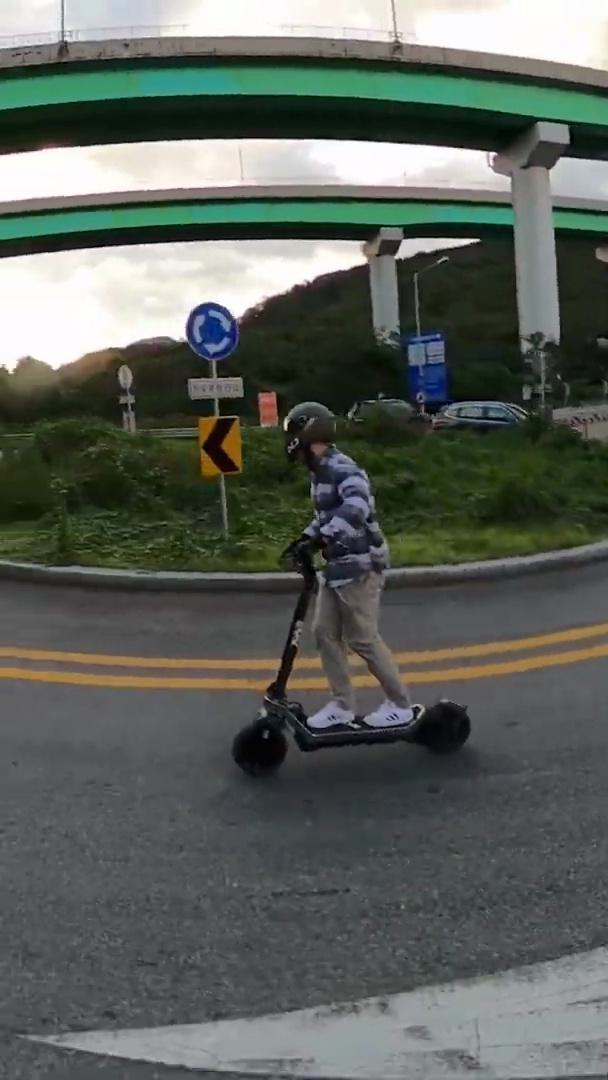helmet: (226, 399, 474, 781)
